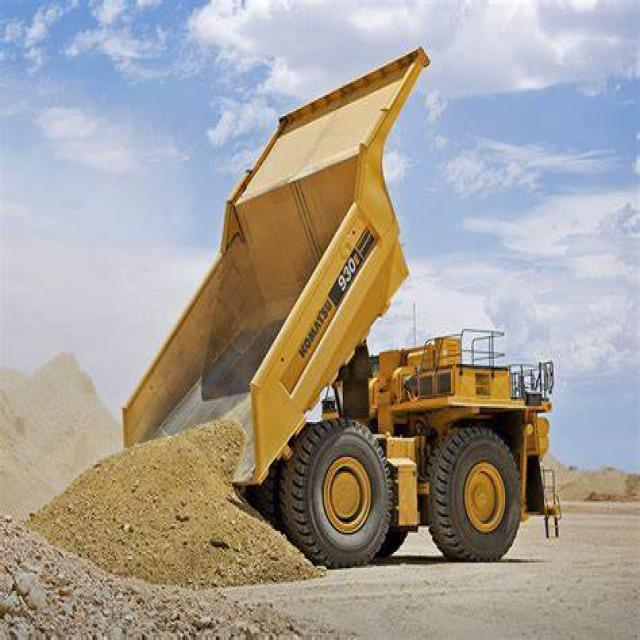dump_truck: (111, 37, 574, 577)
